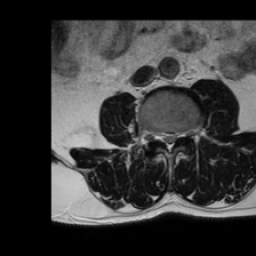CCS_normal: (165, 125, 172, 157)
LFS_stenosis: (180, 123, 187, 142)
LLS_stenosis: (172, 126, 180, 148)
RFS_normal: (151, 123, 158, 147)
RLS_normal: (158, 124, 165, 148)
